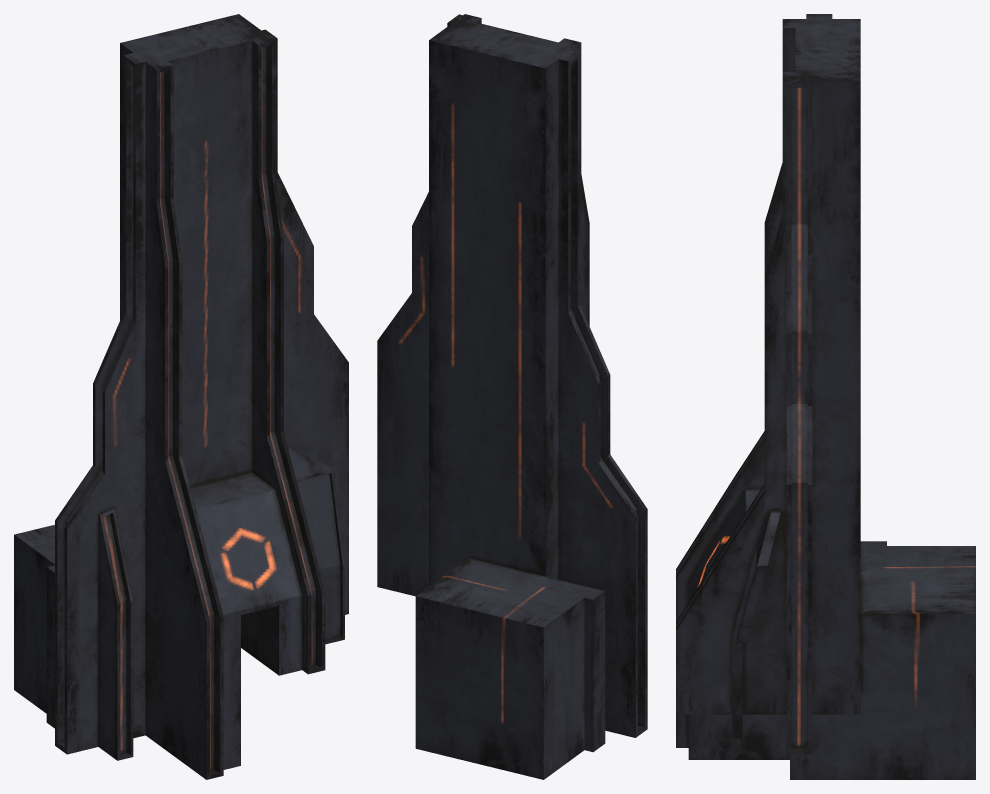
File: Scifi-Building_01.gltf
3 views of the same model, side by side, from view 1: azimuth 30°, elevation 25°; view 2: azimuth 150°, elevation 25°; view 3: azimuth 270°, elevation 25° (orthographic). The views are drawn at different scales.
Parts seen in each view (by area): view 1: Mesh; view 2: Mesh; view 3: Mesh.
Boxes of the visible parts, bbox=[...] form: Mesh: bbox=[14, 14, 348, 779]; Mesh: bbox=[377, 14, 647, 779]; Mesh: bbox=[676, 14, 975, 779].
Size of the model in its own units: 24.45 by 57.73 by 21.79.
Materials: 1 (1 with a texture image).
